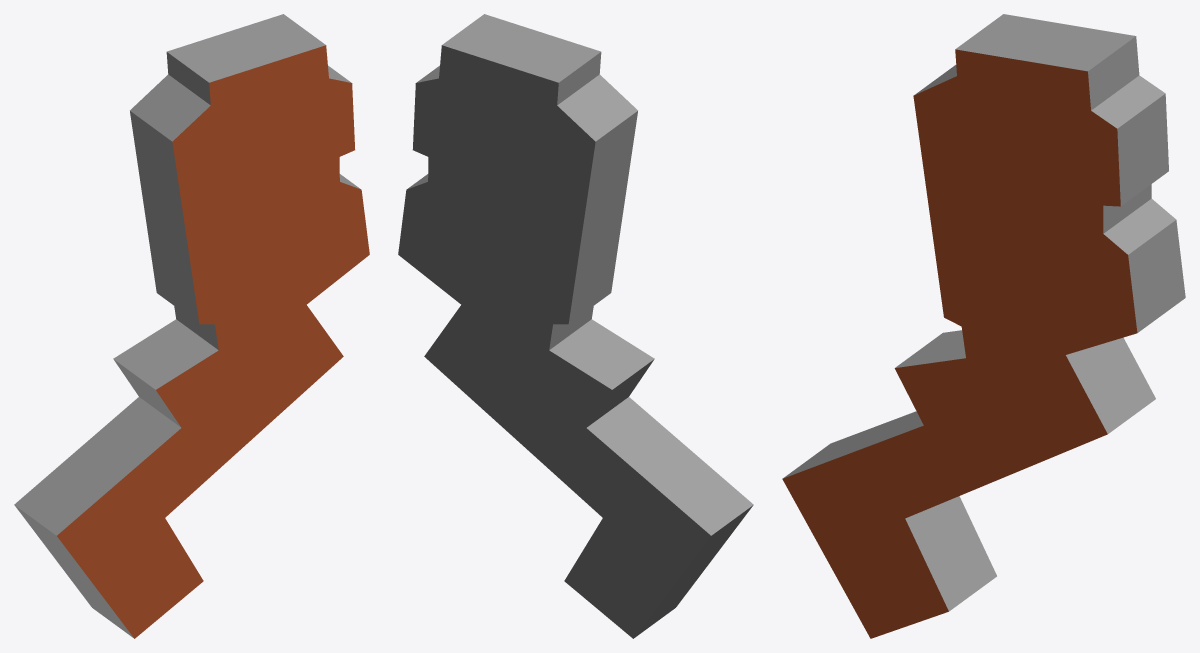
File: construction_0996_assumed_A_Casa_h6m.obj
3 views of the same model, side by side, from view 1: azimuth 30°, elevation 25°; view 2: azimuth 150°, elevation 25°; view 3: azimuth 330°, elevation 25° (orthographic). The views are drawn at different scales.
Parts seen in each view (by area): view 1: construction_0996_assumed_A_Casa; view 2: construction_0996_assumed_A_Casa; view 3: construction_0996_assumed_A_Casa.
Boxes of the visible parts, <box> form: construction_0996_assumed_A_Casa: <box>14,14,369,638</box>; construction_0996_assumed_A_Casa: <box>398,14,753,638</box>; construction_0996_assumed_A_Casa: <box>782,14,1185,638</box>.
Size of the model in its own units: 25.47 by 42.52 by 6.
